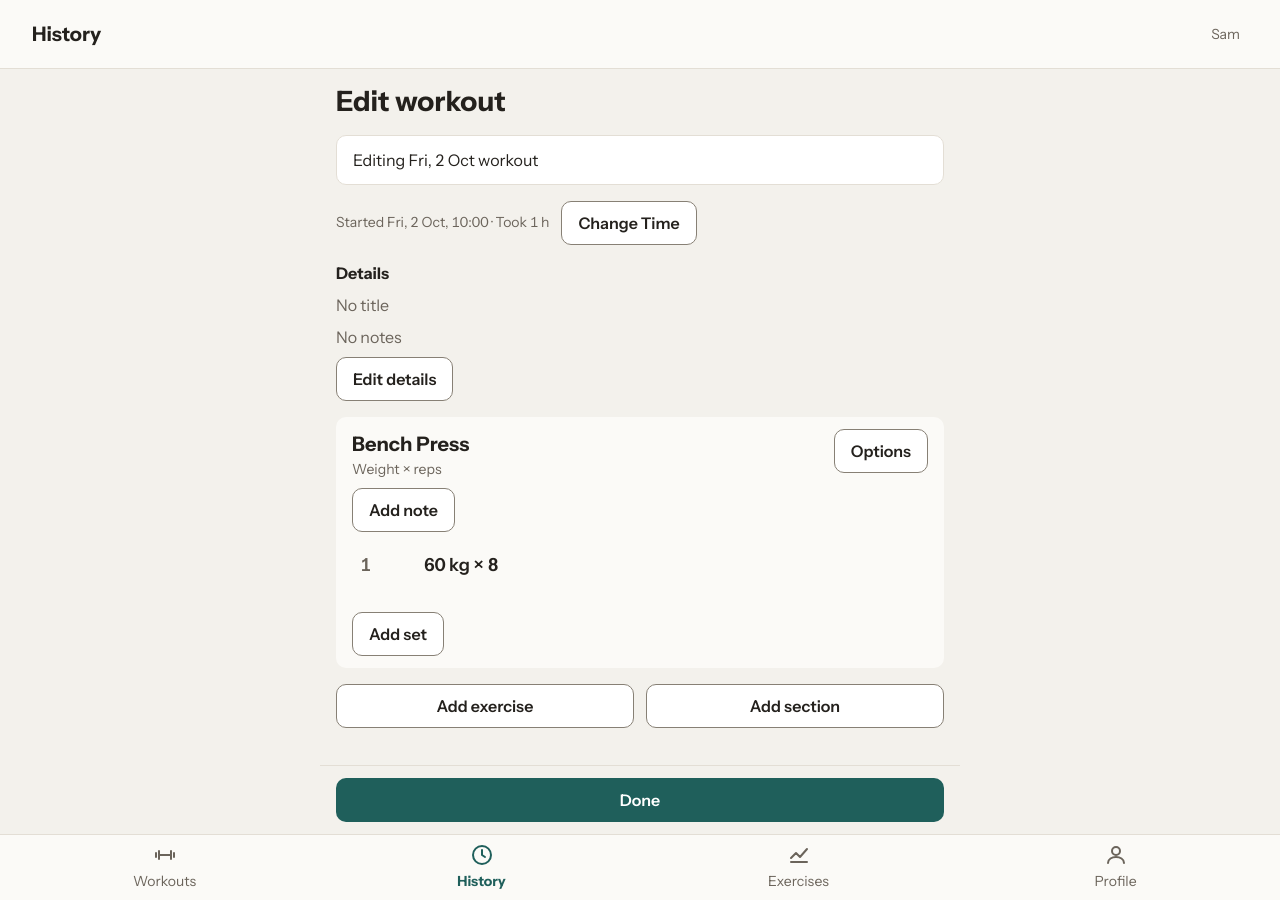
Test: 18.0 AC12 — exercise notes wait for the server › Save is busy while the PATCH is held; the body is exactly { notes }; it closes on 200 and the card shows the note
expect the heading "Edit workout" is shown: met, box [336,84,506,118]
Step 1. Click the button with aria-label "Add note for Bench Press" → (403, 510), box [352,488,455,532]
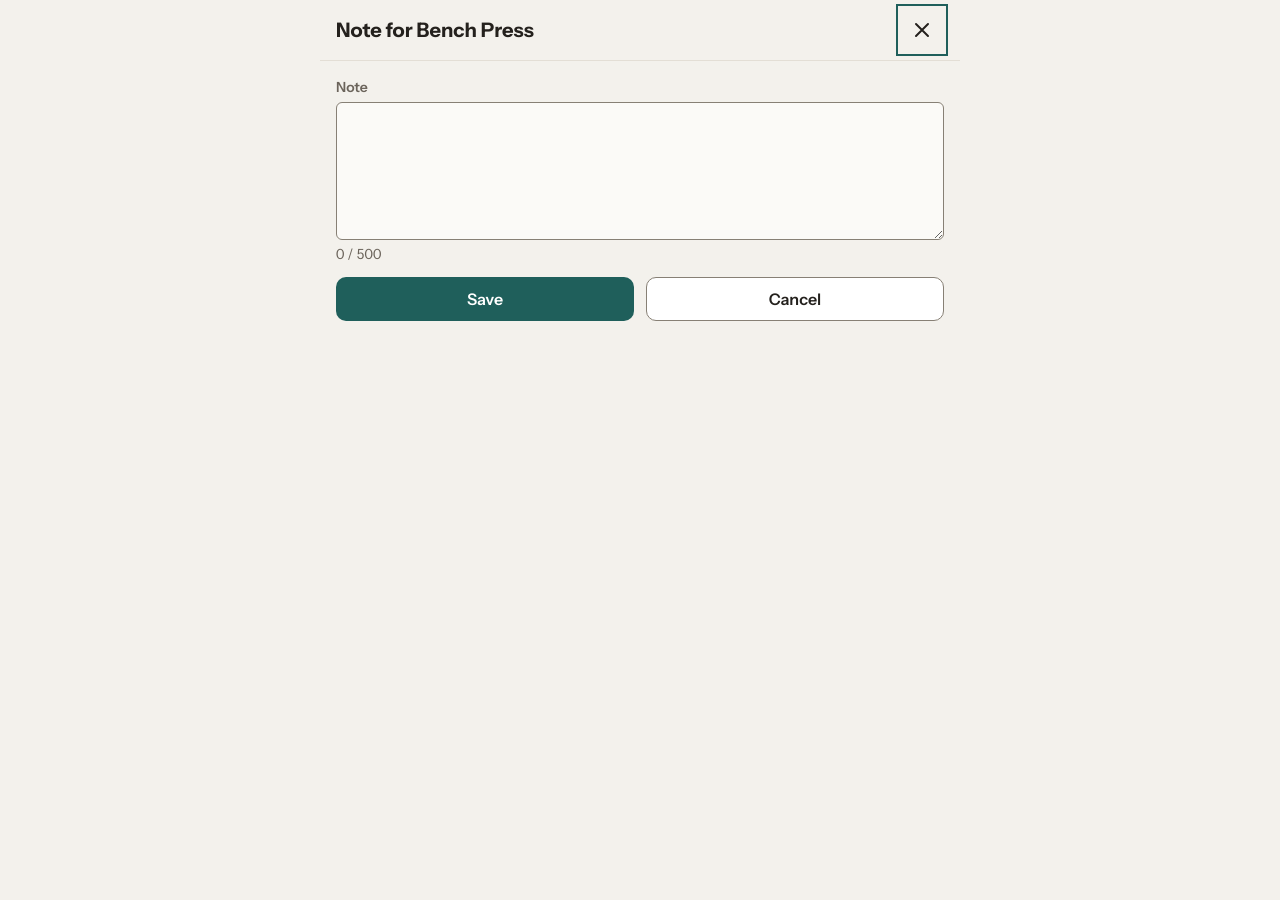
Step 2. Type "Slow eccentric" into the text box labelled "Note" → (640, 171), box [336,102,944,240]
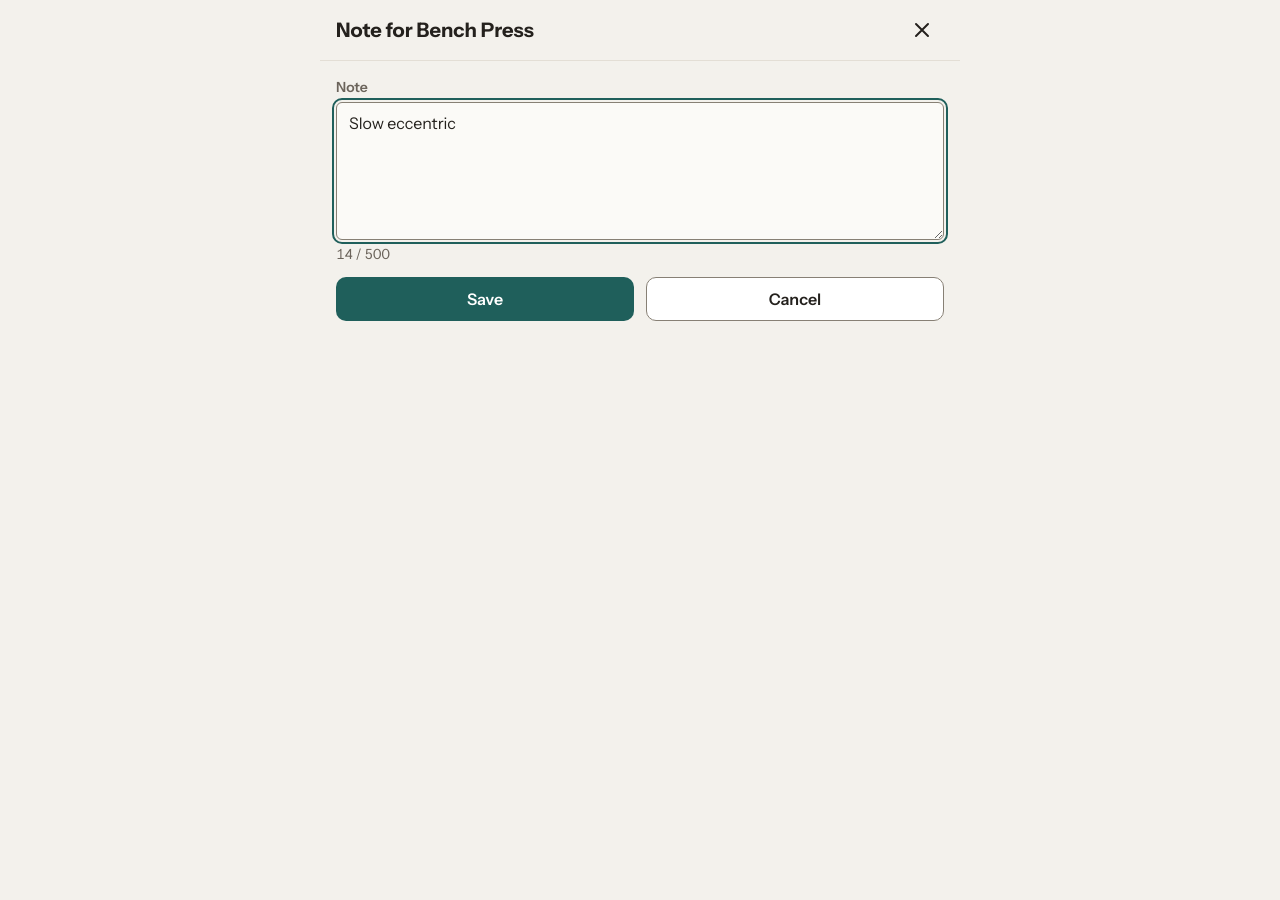
Step 3. Click the button "Save" → (485, 299), box [336,277,634,321]
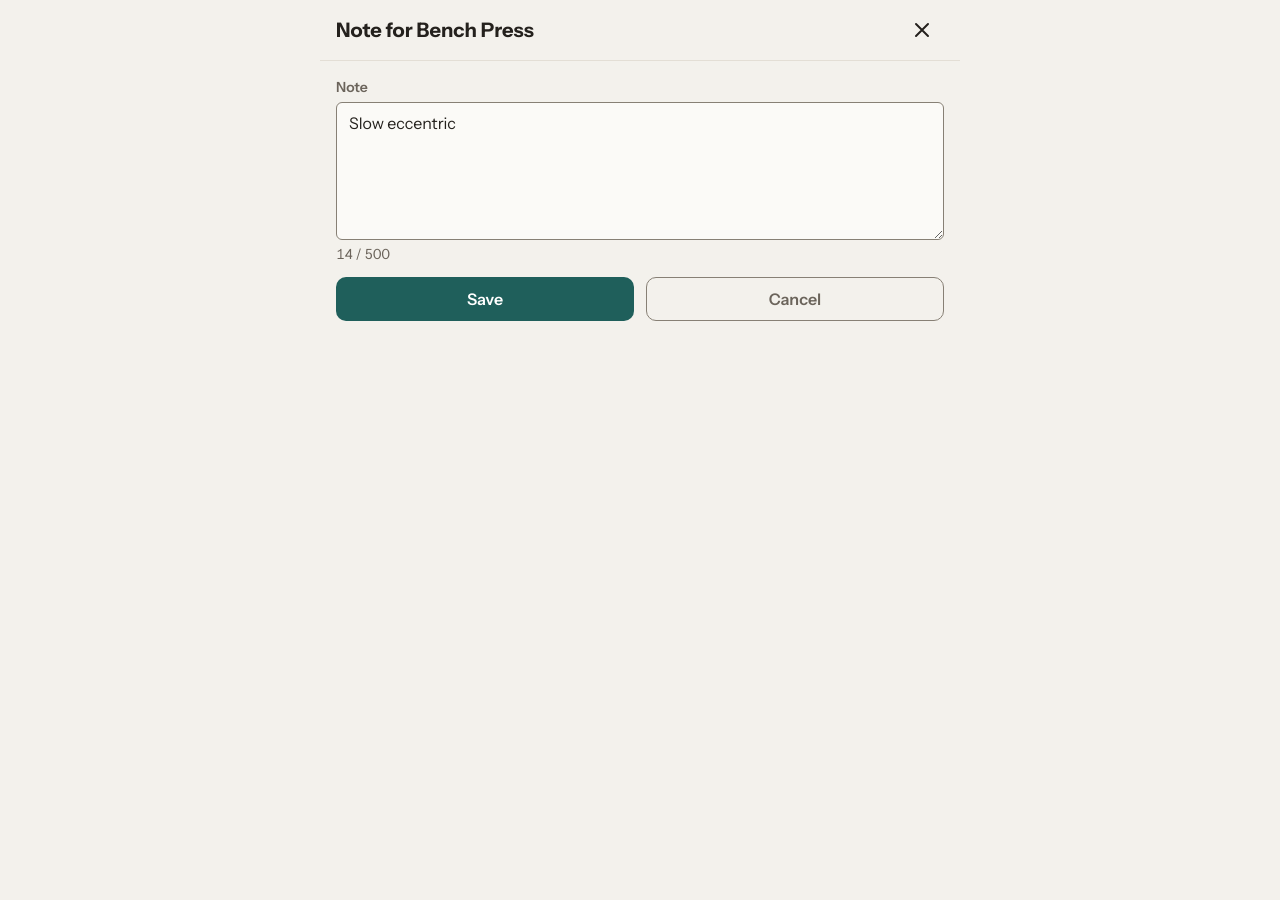
Step 4. Click the button "Save" → (485, 299), box [336,277,634,321]
(page scrolled)
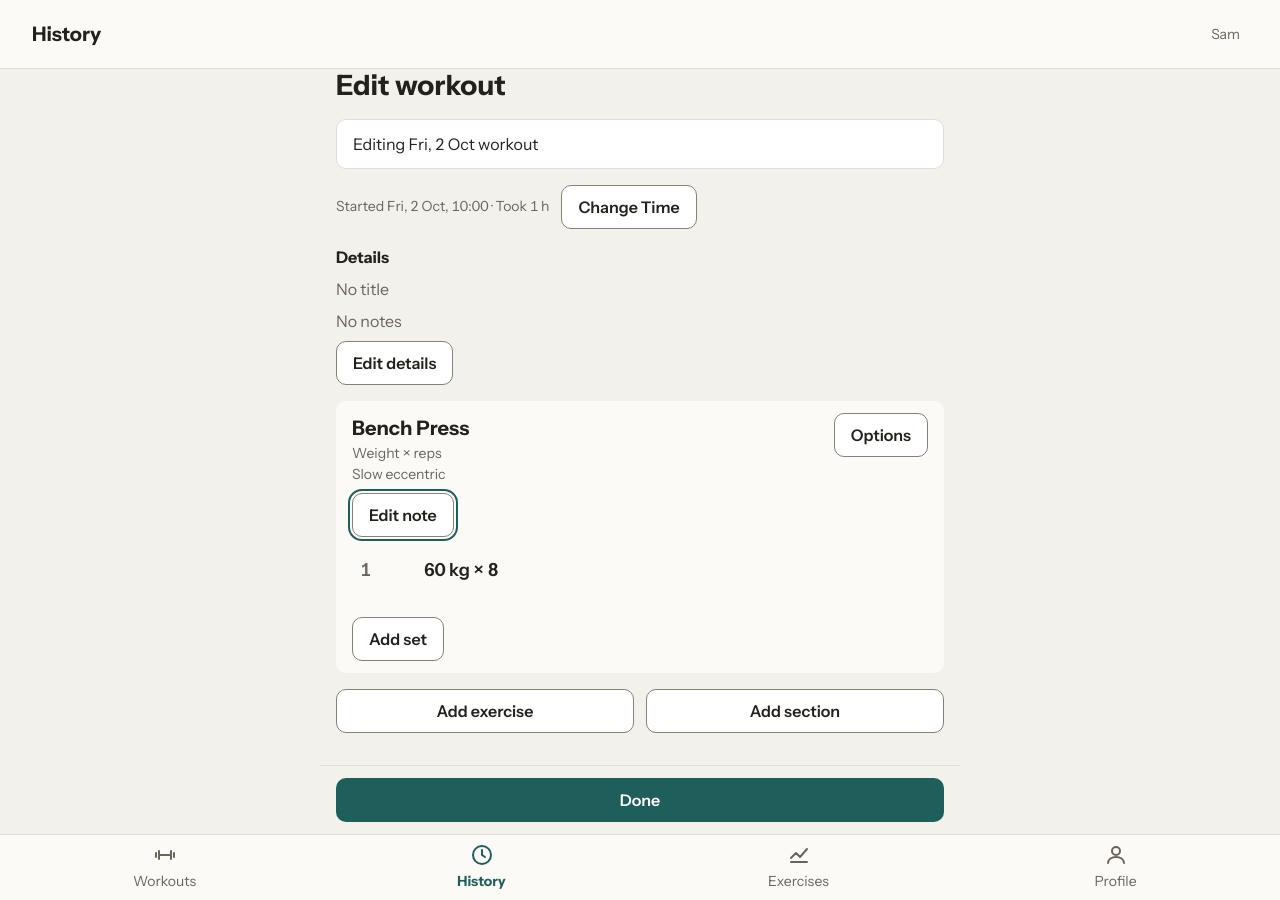
expect the heading "Note for Bench Press" is gone: met
expect the text "Slow eccentric" is shown: met, box [352,465,446,483]
